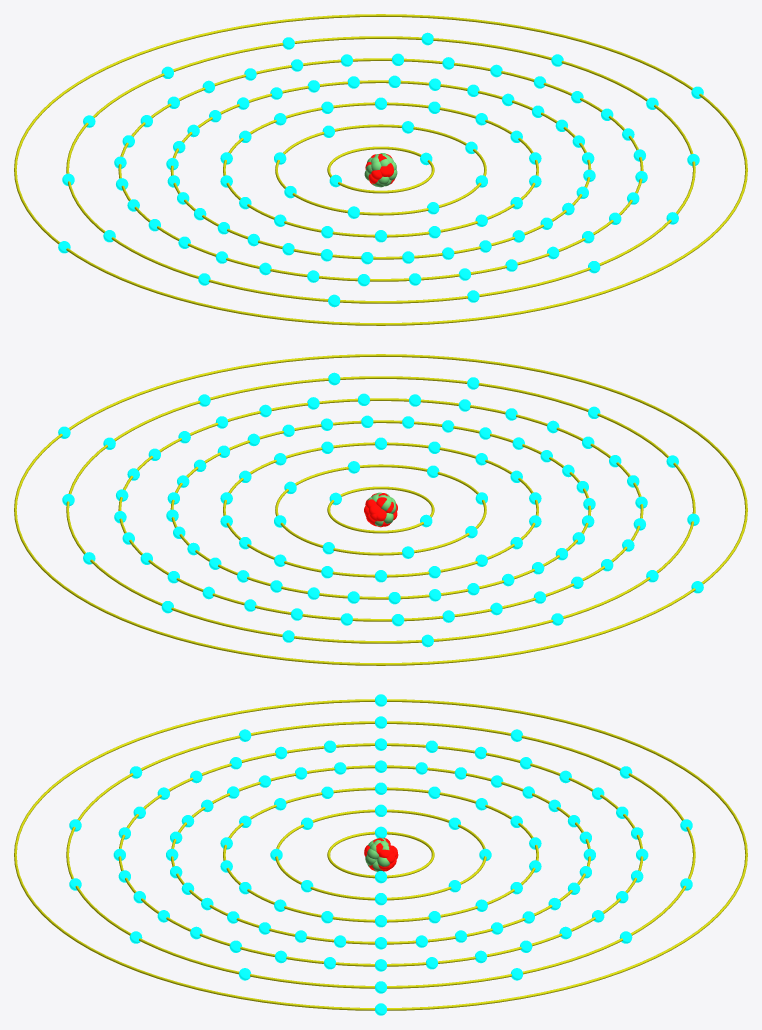
The model's file is atomo_108.glb.
3 views of the same model, one above another, from view 1: azimuth 30°, elevation 25°; view 2: azimuth 150°, elevation 25°; view 3: azimuth 270°, elevation 25° (orthographic).
Parts seen in each view (by area): view 1: orbital_7, orbital_6, orbital_5, orbital_4, orbital_3, orbital_2, orbital_1; view 2: orbital_7, orbital_6, orbital_5, orbital_4, orbital_3, orbital_2, orbital_1; view 3: orbital_7, orbital_6, orbital_5, orbital_4, orbital_3, orbital_2, orbital_1.
Boxes of the visible parts, left/top/right/bottom form: orbital_7: left=14, top=14, right=747, bottom=325; orbital_6: left=66, top=36, right=695, bottom=303; orbital_5: left=118, top=58, right=643, bottom=281; orbital_4: left=170, top=80, right=591, bottom=259; orbital_3: left=223, top=102, right=538, bottom=237; orbital_2: left=275, top=124, right=486, bottom=215; orbital_1: left=327, top=146, right=434, bottom=193; orbital_7: left=14, top=354, right=747, bottom=665; orbital_6: left=66, top=376, right=695, bottom=643; orbital_5: left=118, top=398, right=643, bottom=621; orbital_4: left=170, top=420, right=591, bottom=599; orbital_3: left=223, top=442, right=538, bottom=577; orbital_2: left=275, top=464, right=486, bottom=555; orbital_1: left=327, top=486, right=434, bottom=533; orbital_7: left=14, top=699, right=747, bottom=1010; orbital_6: left=66, top=721, right=695, bottom=988; orbital_5: left=118, top=743, right=643, bottom=966; orbital_4: left=171, top=765, right=590, bottom=944; orbital_3: left=223, top=787, right=538, bottom=922; orbital_2: left=275, top=809, right=486, bottom=900; orbital_1: left=327, top=831, right=434, bottom=878.
Bounding box in the file's own units: 21.36 × 0.9985 × 21.08.
